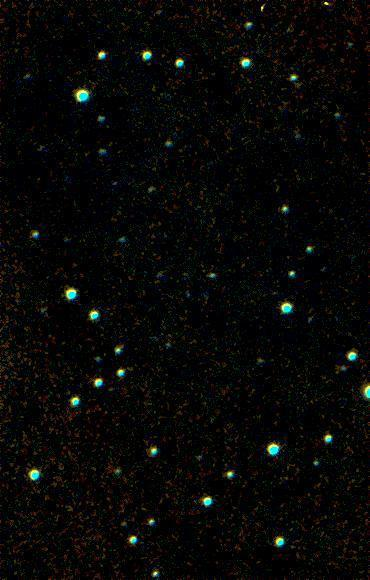star: (313, 0, 343, 21)
